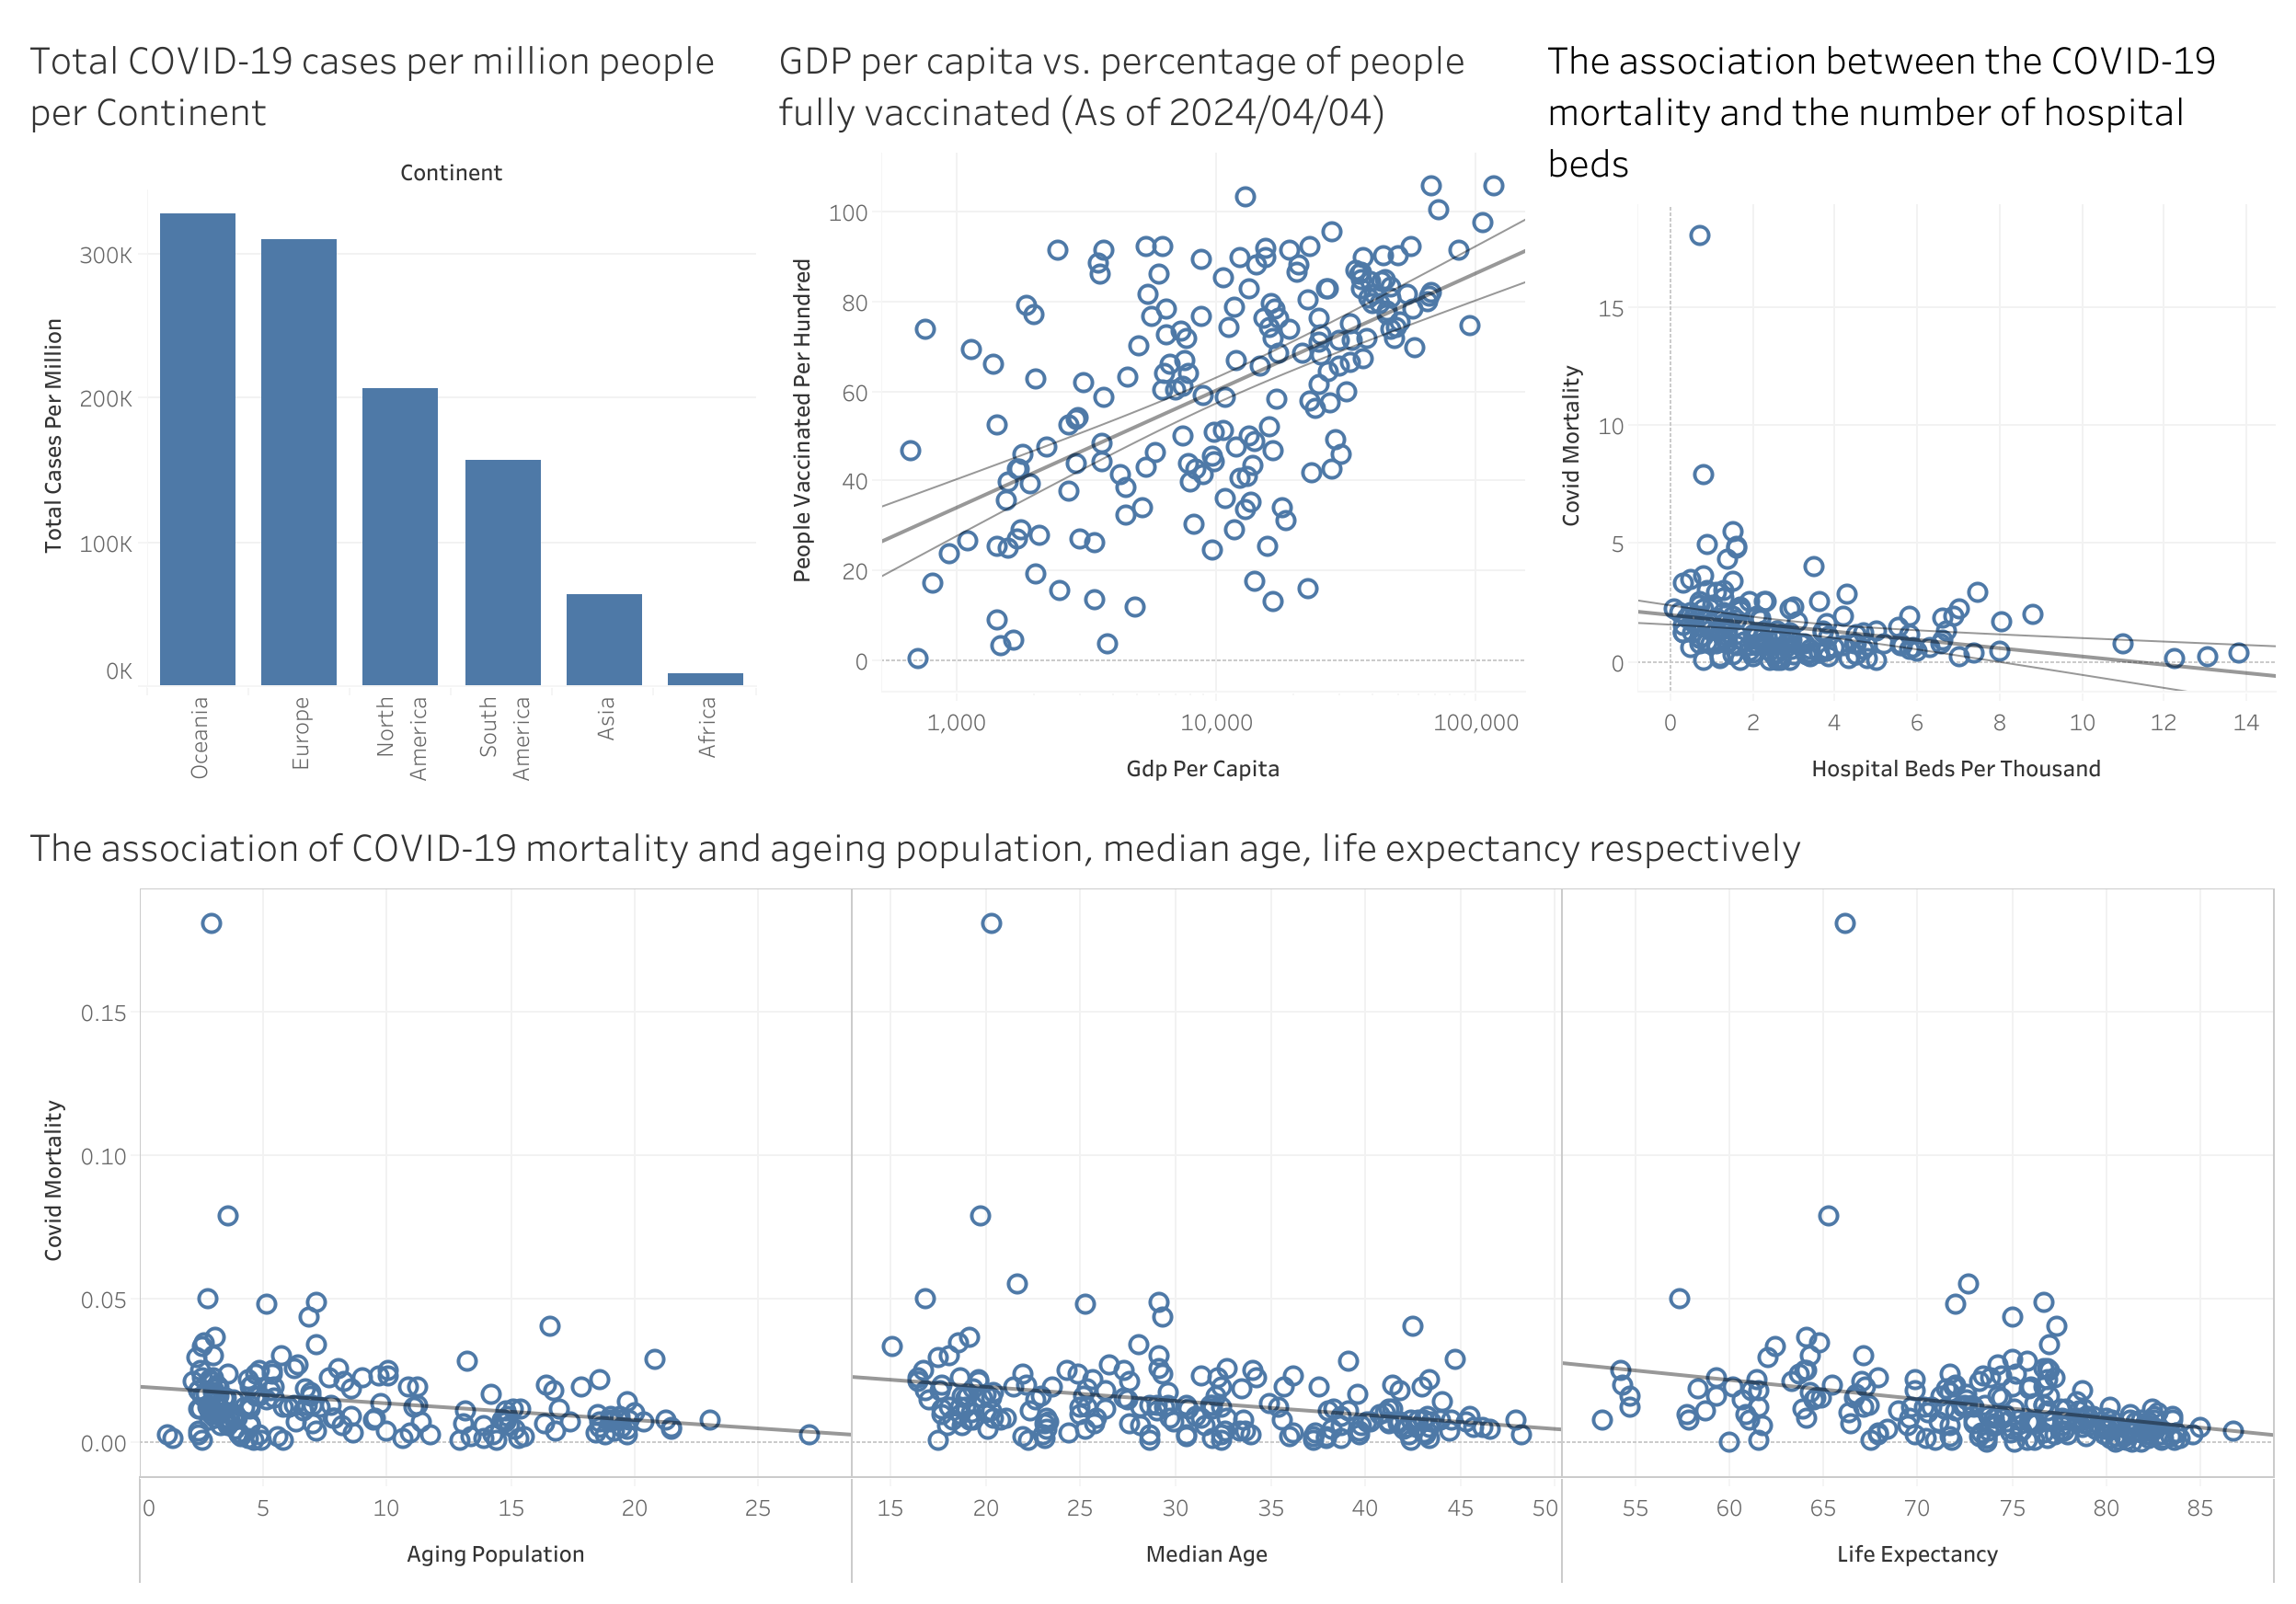

The page's visual inventory and layout, read from the dashboard file:
{"tool":"tableau","page":{"name":"Dashboard 3","canvas":[1000,1000],"units":"permille","ordinal":2},"visuals":[{"type":"worksheet","title":"Sheet 7","mark":"Automatic","rows":["total_cases_per_million"],"cols":["Continent"],"box":[7.8,9.7,324.9,490.3]},{"type":"worksheet","title":"Sheet 10","mark":"Automatic","rows":["people_vaccinated_per_hundred"],"cols":["gdp_per_capita"],"box":[332.7,9.7,333.4,490.3]},{"type":"worksheet","title":"Sheet 12","mark":"Automatic","rows":["covid_mortality"],"cols":["hospital_beds_per_thousand"],"box":[666.2,9.7,326,490.3]},{"type":"worksheet","title":"Sheet 8 (2)","mark":"Automatic","rows":["covid_mortality"],"cols":["aging_population","median_age","life_expectancy"],"box":[7.8,500,984.4,490.3]}]}

Visuals, with their boxes on the dashboard's canvas, which has no fixed pixel size, in thousandths of its width and height (x1, y1, x2, y2). These are canvas units, not pixel positions in the 2296x1604 screenshot, which may show the page scaled, cropped or inside an application window:
"Sheet 7" worksheet: left=8, top=10, right=333, bottom=500
"Sheet 10" worksheet: left=333, top=10, right=666, bottom=500
"Sheet 12" worksheet: left=666, top=10, right=992, bottom=500
"Sheet 8 (2)" worksheet: left=8, top=500, right=992, bottom=990
